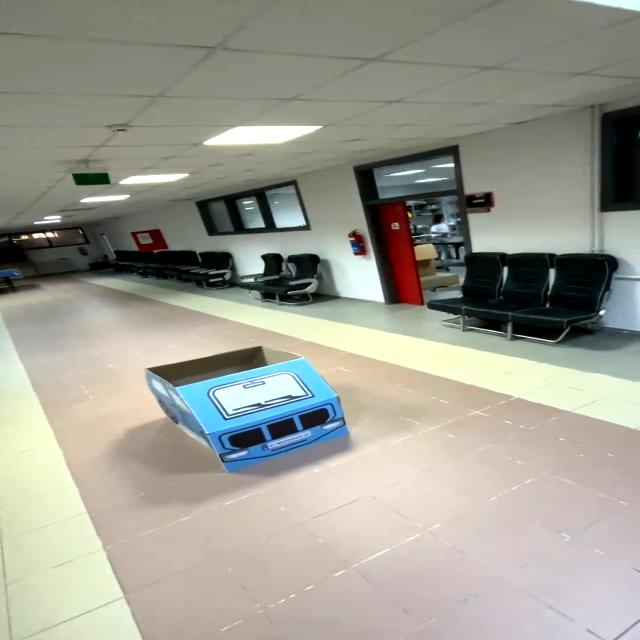blue_car: (128, 335, 360, 482)
